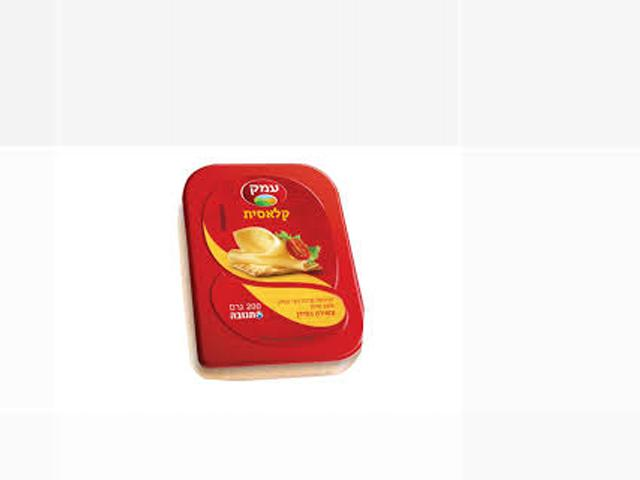cheese: (174, 150, 362, 378)
